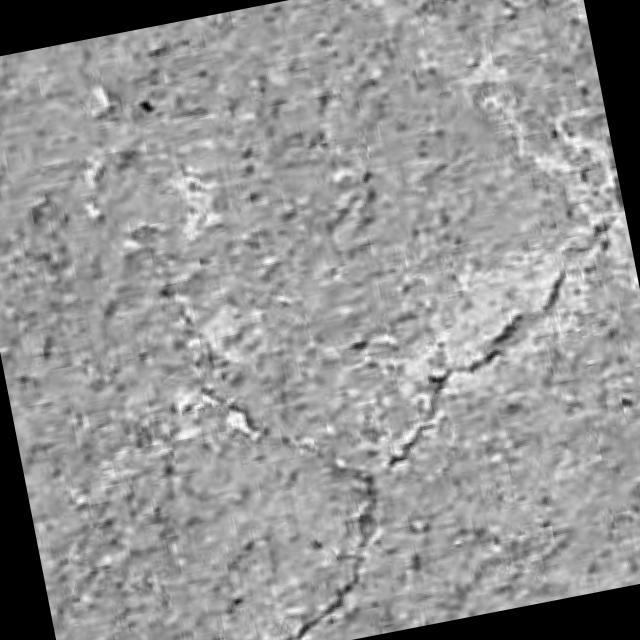crack: (383, 267, 568, 469), (282, 438, 381, 639)
